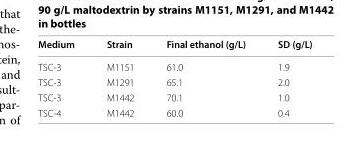table: (37, 37, 311, 118)
table column: (149, 37, 261, 118), (89, 37, 149, 118), (37, 37, 89, 118), (261, 37, 311, 118)
table column header: (37, 37, 311, 55)
table row: (37, 55, 311, 74), (37, 37, 311, 55), (37, 74, 311, 89), (37, 89, 311, 104), (37, 104, 311, 118)
